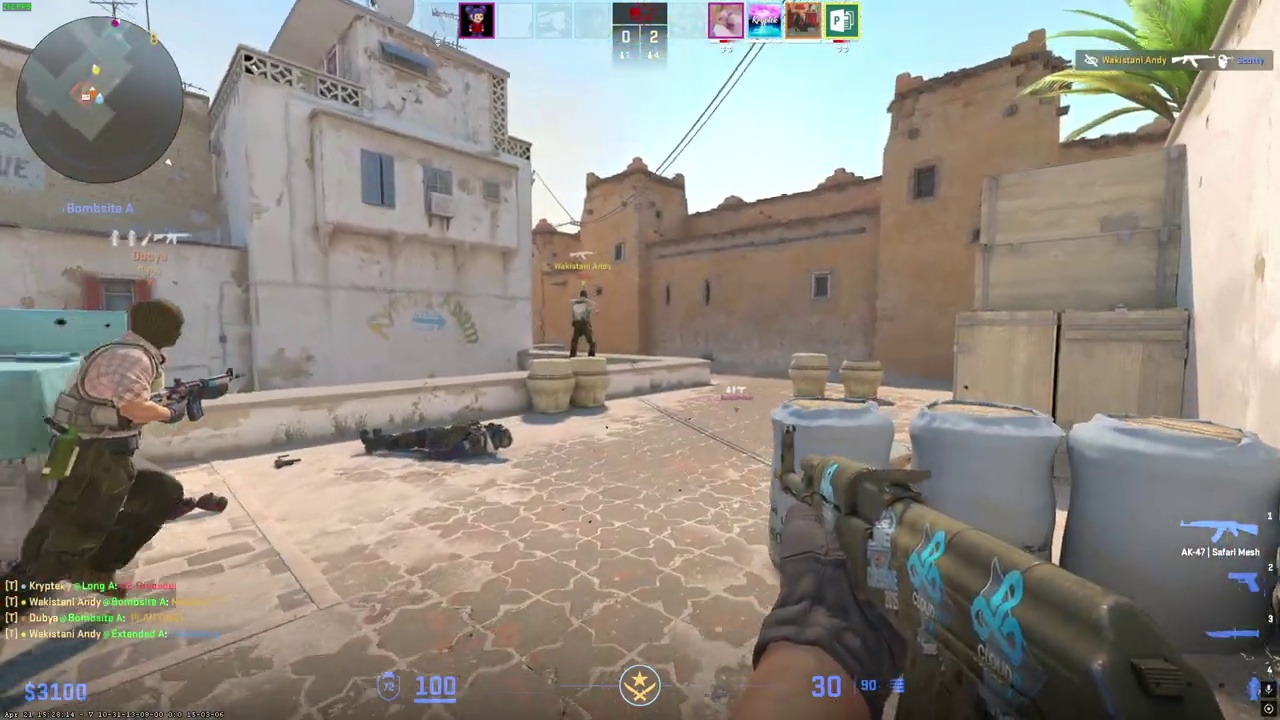Terrorist: (17, 296, 185, 617), (567, 290, 598, 358), (96, 290, 100, 294)
